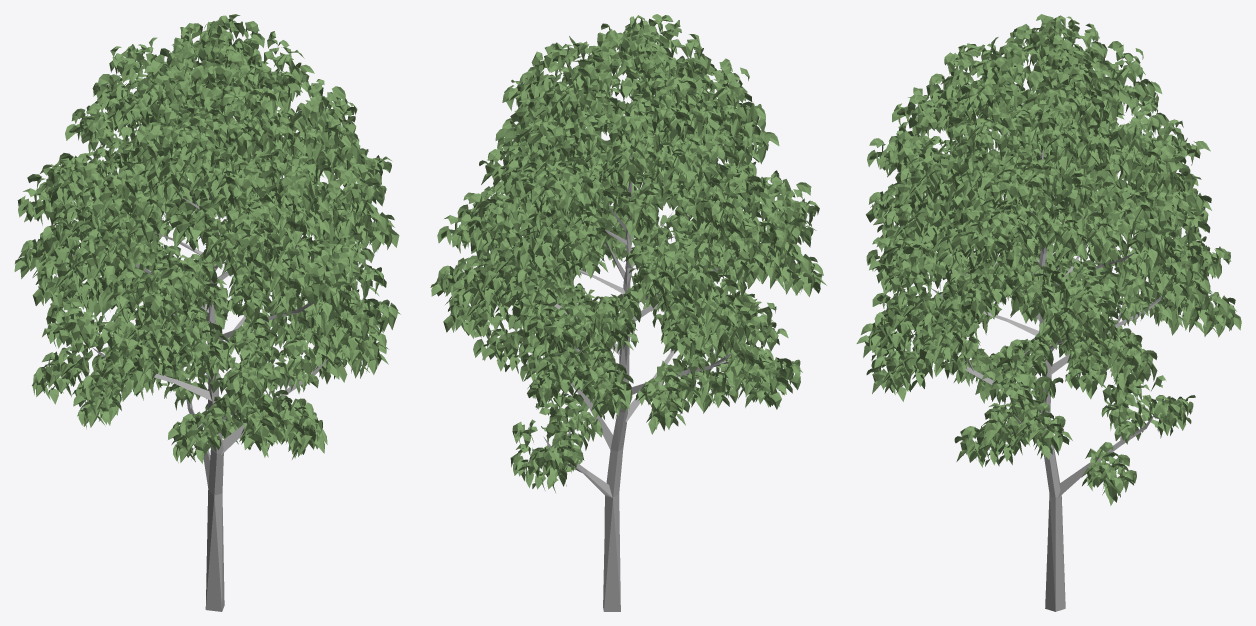
The model's file is birch_tree-compressed.glb.
3 renders of one model, left to right at view 1: azimuth 30°, elevation 25°; view 2: azimuth 150°, elevation 25°; view 3: azimuth 270°, elevation 25°, orthographic. The views are drawn at different scales.
Visible parts, largest first — view 1: sub02, sub02_1; view 2: sub02, sub02_1; view 3: sub02, sub02_1.
Part boxes in pixels (left/top/right/bottom): sub02: left=14, top=14, right=400, bottom=463; sub02_1: left=77, top=187, right=343, bottom=611; sub02: left=430, top=14, right=826, bottom=492; sub02_1: left=522, top=101, right=737, bottom=611; sub02: left=856, top=14, right=1241, bottom=505; sub02_1: left=897, top=148, right=1168, bottom=611.
Bounding box in the file's own units: 2.39 × 3.92 × 2.37.
